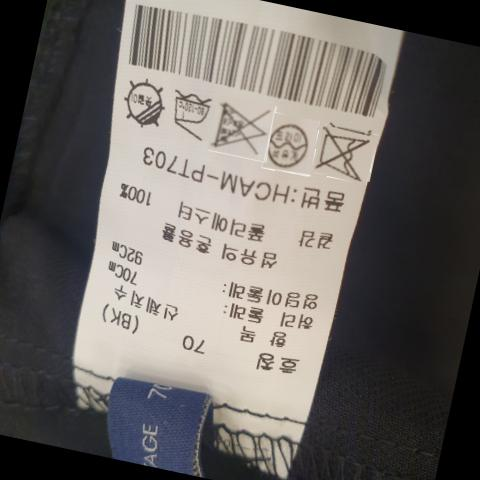DN_bleach: (216, 96, 271, 154)
DN_wash: (319, 126, 373, 179)
dry_clean_petrol_only: (266, 113, 314, 171)
iron_low: (174, 85, 214, 135)
line_dry_in_shade: (120, 77, 168, 130)
